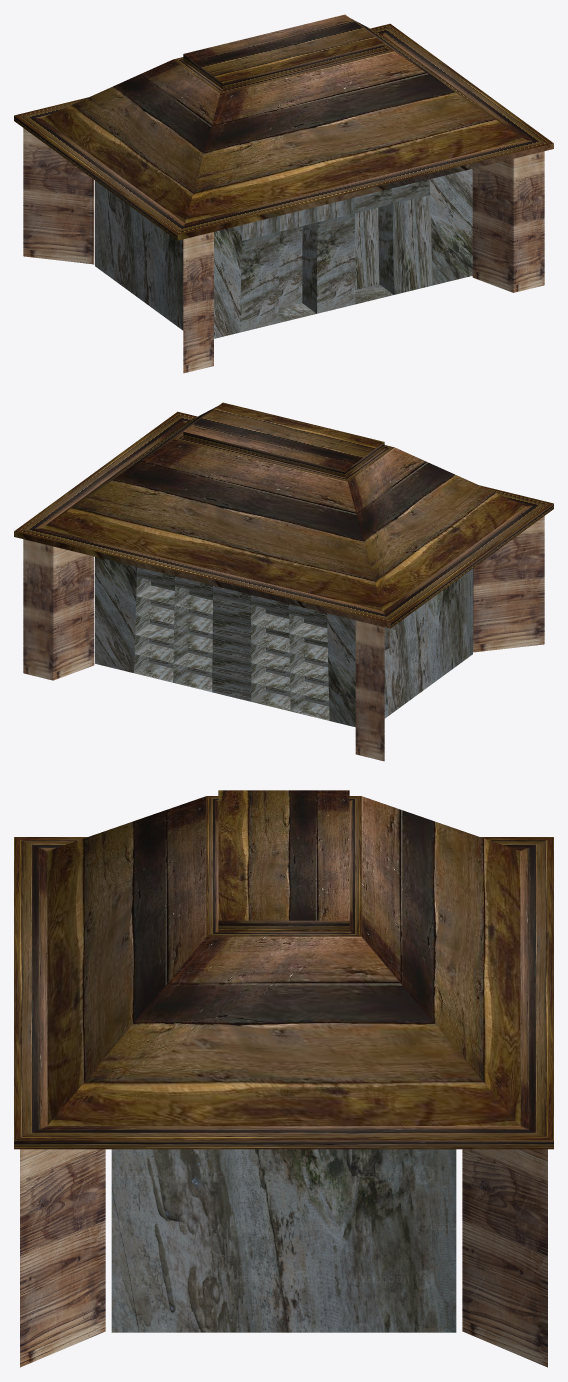
File: Wood Temple.fbx
3 views of the same model, one above another, from view 1: azimuth 30°, elevation 25°; view 2: azimuth 150°, elevation 25°; view 3: azimuth 270°, elevation 25° (orthographic). The views are drawn at different scales.
Visible parts, largest first — view 1: Box001; view 2: Box001; view 3: Box001.
Boxes of the visible parts, x1,y1,x2,y2 form: Box001: (14, 14, 553, 373); Box001: (14, 402, 553, 761); Box001: (14, 790, 553, 1367).
Size of the model in its own units: 79.16 by 44.64 by 59.59.
Materials: 3 (3 with a texture image).
